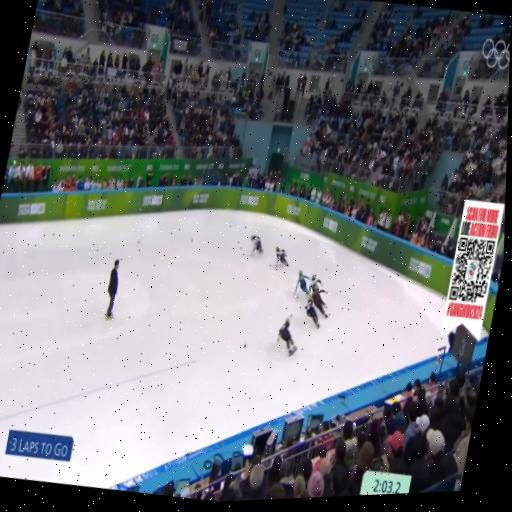Skater: (310, 276, 327, 318), (279, 318, 296, 355), (247, 233, 266, 257), (305, 296, 319, 328), (295, 270, 309, 295), (276, 247, 289, 267), (309, 275, 322, 294)
